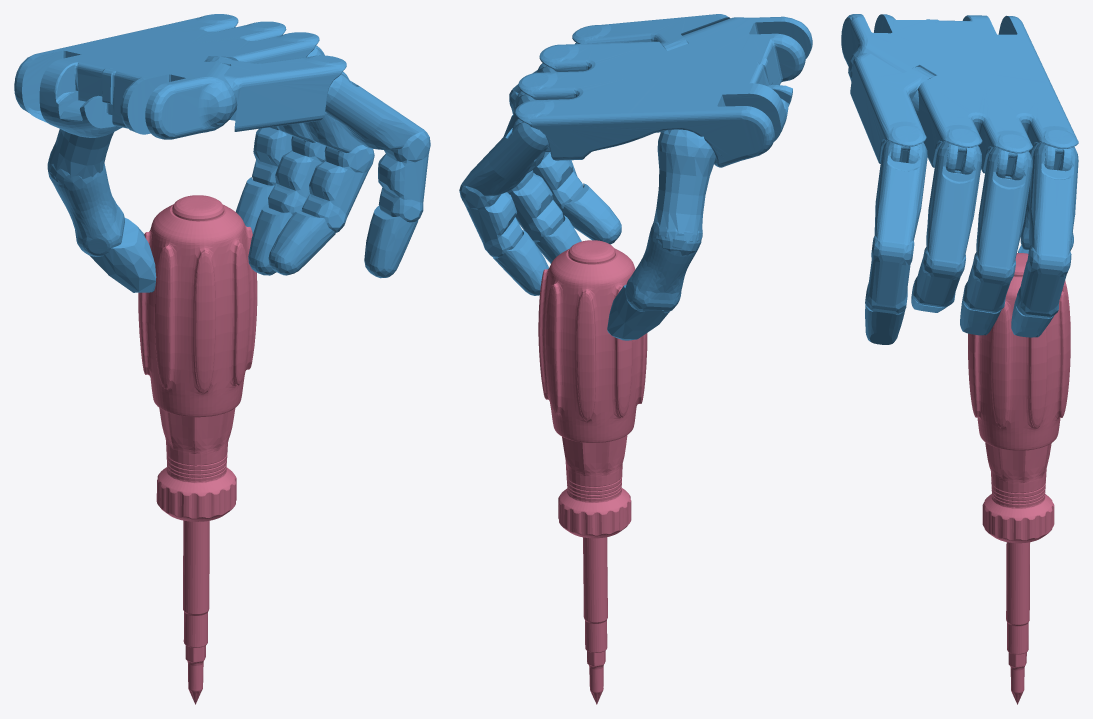
3 renders of one model, left to right at view 1: azimuth 30°, elevation 25°; view 2: azimuth 150°, elevation 25°; view 3: azimuth 270°, elevation 25°, orthographic. The views are drawn at different scales.
Parts seen in each view (by area): view 1: 0; view 2: 0; view 3: 0.
Boxes of the visible parts, bbox=[...] form: 0: bbox=[14, 14, 430, 704]; 0: bbox=[459, 14, 812, 704]; 0: bbox=[841, 14, 1078, 704].
Size of the model in its own units: 0.1545 by 0.3055 by 0.1031.
